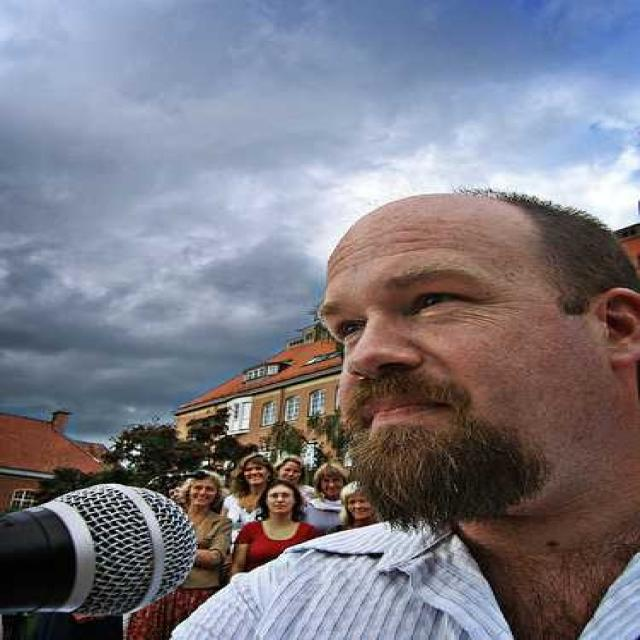microphone: (9, 471, 226, 638)
